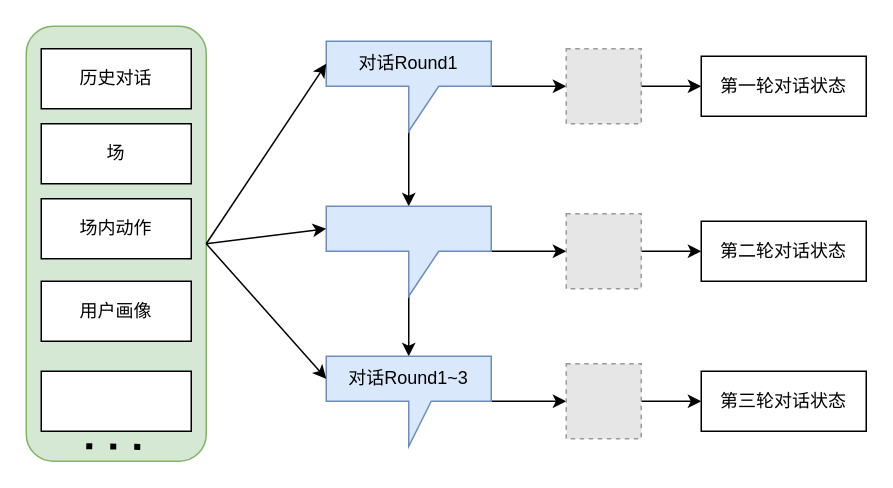
Image size: 893x488. Some labels were removed from this diagram. Grey dashed boxes stand in for pictures. The shapes that lost their labels are listed below. From the top down, each one's box as (x1, y1, x2, y2) in pixels, then its label:
(325, 205, 491, 296): 对话Round1~2
(40, 370, 191, 431): 参考状态
